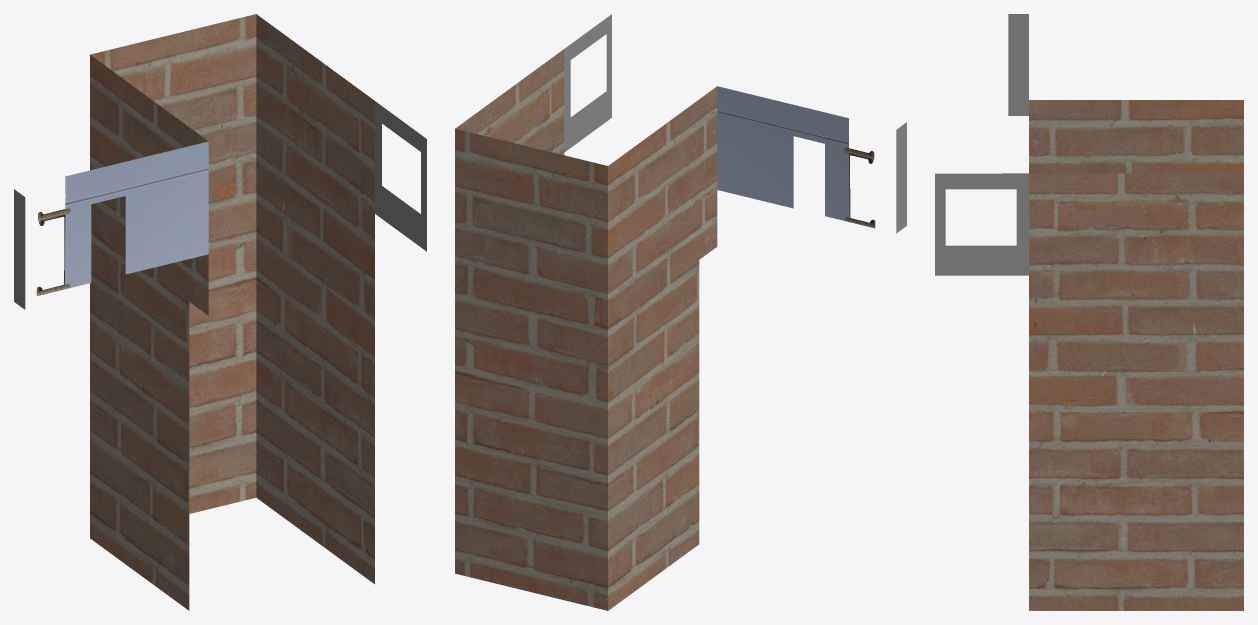
Rendered from tramoFinal.fbx.
3 views of the same model, side by side, from view 1: azimuth 30°, elevation 25°; view 2: azimuth 150°, elevation 25°; view 3: azimuth 270°, elevation 25° (orthographic). The views are drawn at different scales.
Visible parts, largest first — view 1: tramoFinal; view 2: tramoFinal; view 3: tramoFinal.
Part boxes in pixels (x1,y1,x2,y2): tramoFinal: [14, 14, 426, 610]; tramoFinal: [455, 14, 906, 610]; tramoFinal: [935, 14, 1243, 610].
Bounding box in the file's own units: 978 × 1252 × 801.
